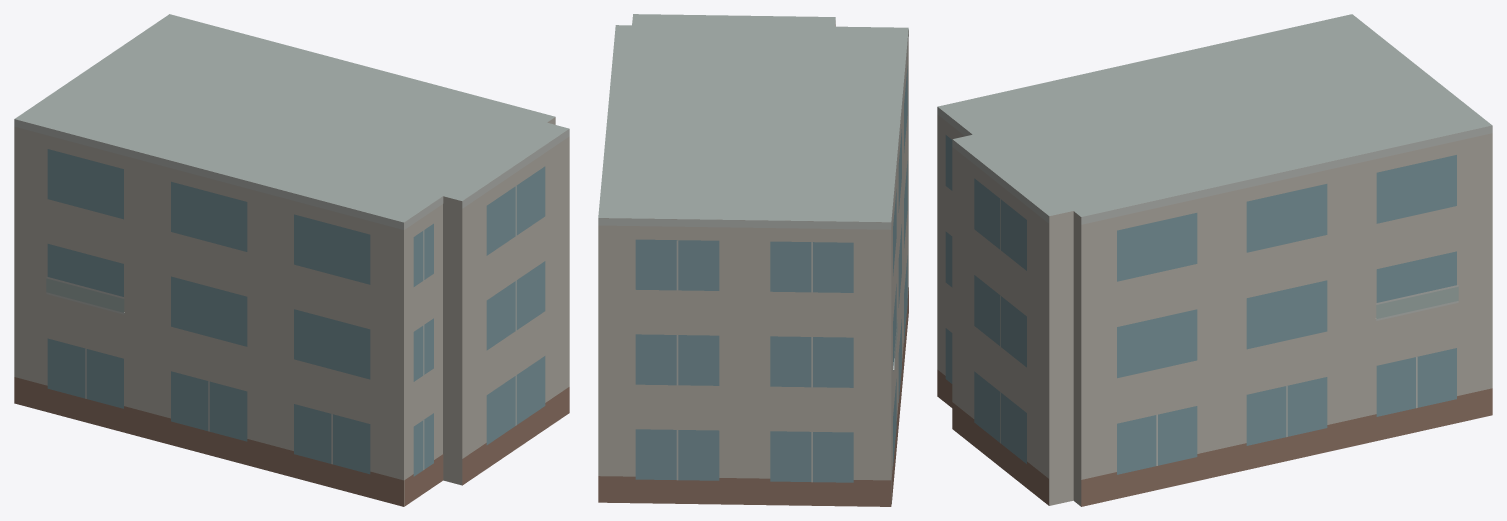
The model's file is survey-upis-33010036.glb.
The picture shows the model from 3 angles, left to right: view 1: azimuth 30°, elevation 25°; view 2: azimuth 150°, elevation 25°; view 3: azimuth 270°, elevation 25°; orthographic projection.
Visible parts, largest first — view 1: survey-upis-33010036.tmp; view 2: survey-upis-33010036.tmp; view 3: survey-upis-33010036.tmp.
Boxes of the visible parts, left/top/right/bottom form: survey-upis-33010036.tmp: left=14, top=14, right=569, bottom=506; survey-upis-33010036.tmp: left=598, top=14, right=908, bottom=506; survey-upis-33010036.tmp: left=937, top=14, right=1492, bottom=506.
Size of the model in its own units: 13.76 by 9.15 by 15.9.
